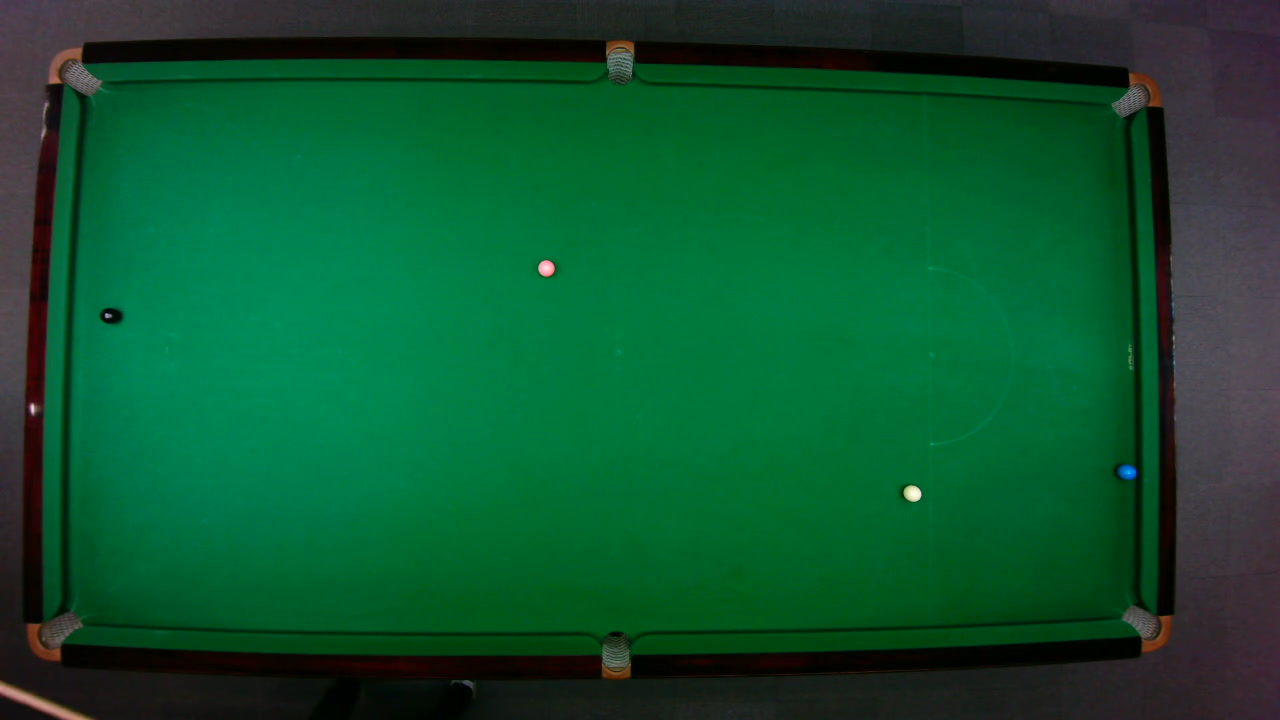bag: (25, 609, 83, 661), (45, 46, 102, 96), (1119, 603, 1171, 652), (1108, 71, 1161, 118), (600, 629, 630, 680), (605, 38, 633, 85)
black: (98, 306, 120, 324)
blue: (1115, 462, 1138, 480)
pink: (536, 258, 555, 277)
white: (901, 483, 922, 502)
zone: (927, 266, 1013, 445)
